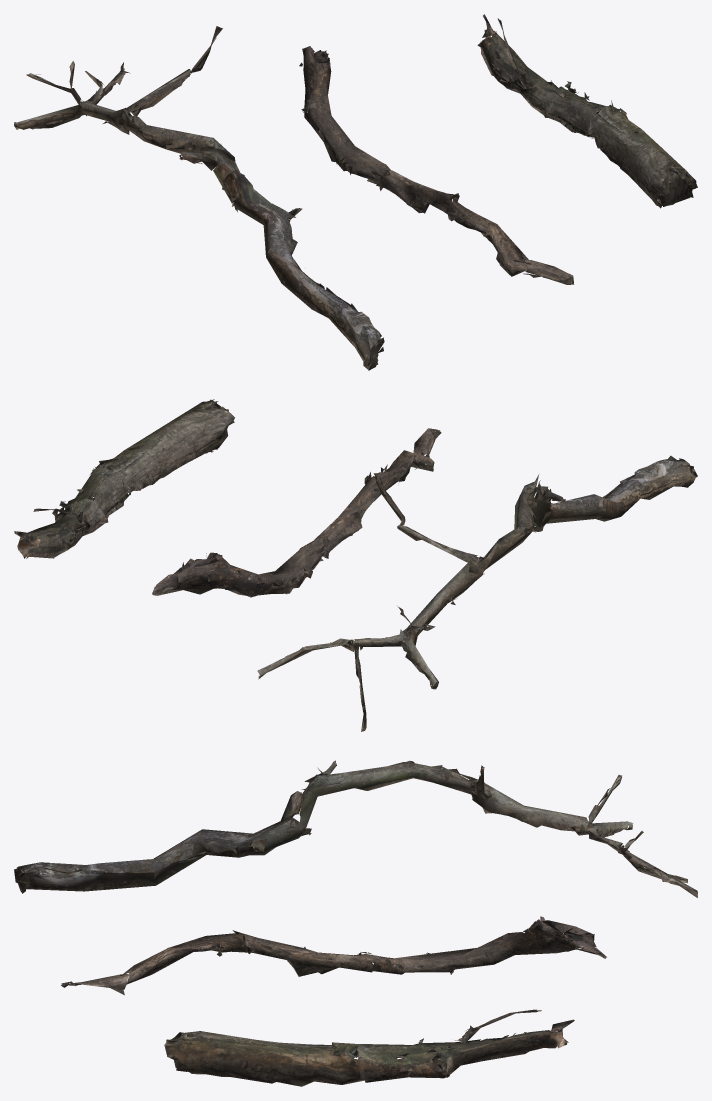
Rendered from dry_branches.glb.
3 views of the same model, one above another, from view 1: azimuth 30°, elevation 25°; view 2: azimuth 150°, elevation 25°; view 3: azimuth 270°, elevation 25° (orthographic).
Visible parts, largest first — view 1: dry_branches_medium_01_a; view 2: dry_branches_medium_01_a; view 3: dry_branches_medium_01_a.
Boxes of the visible parts, x1,y1,x2,y2 form: dry_branches_medium_01_a: (14,14,697,370); dry_branches_medium_01_a: (14,399,697,731); dry_branches_medium_01_a: (14,760,697,1086).
Size of the model in its own units: 1.06 by 0.3405 by 1.3.
1 material, 1 textured.
